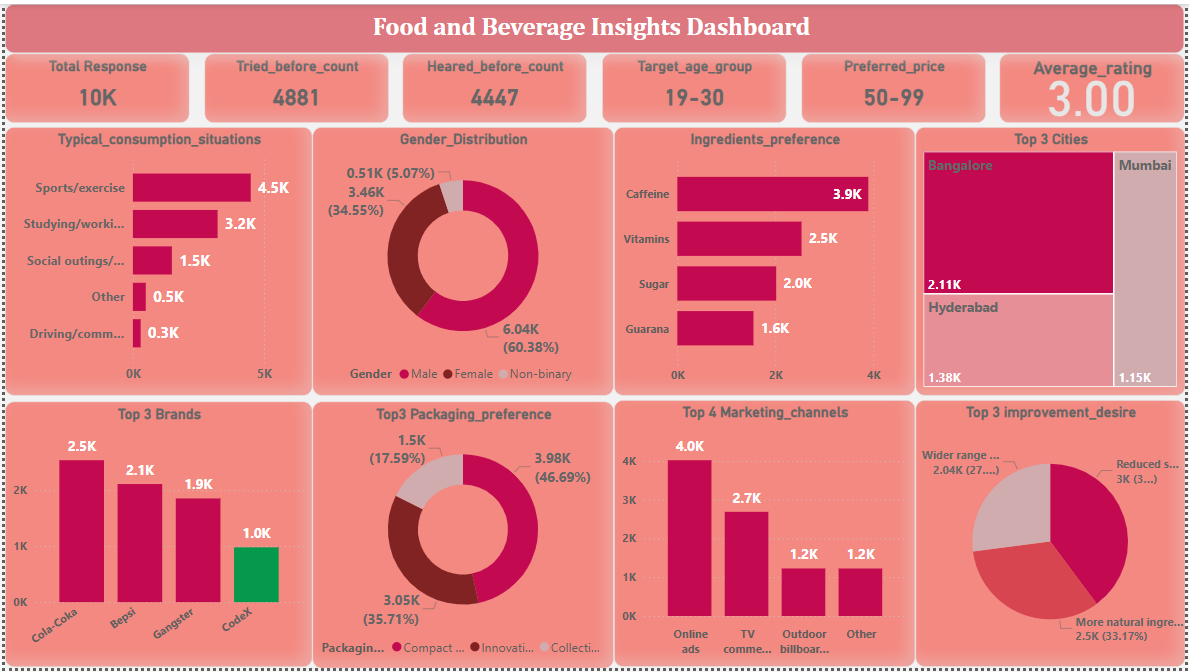

This screenshot's page, from the dashboard's own definition file:
{"tool":"powerbi","page":{"name":"Final Insights","canvas":[1280,720],"ordinal":3},"visuals":[{"type":"card","title":"Total Response","fields":{"Values":["CountNonNull(fact_survey_responses.Response_ID)"]},"box":[0,53,200,75],"z":0},{"type":"card","title":"Tried_before_count","fields":{"Values":["fact_survey_responses.Tried_count"]},"box":[215.8,53,200,75],"z":1000},{"type":"card","title":"Heared_before_count","fields":{"Values":["fact_survey_responses.Heard_count"]},"box":[431.5,53,200,75],"z":2000},{"type":"card","title":"Target_age_group ","fields":{"Values":["Min(dim_repondents.Age)"]},"box":[647.3,53,200,75],"z":3000},{"type":"card","title":"Preferred_price ","fields":{"Values":["Min(fact_survey_responses.Price_range)"]},"box":[863,53,200,75],"z":4000},{"type":"kpi","title":"Average_rating ","fields":{"Indicator":["Avg(fact_survey_responses.Taste_experience)"],"TrendLine":["dim_repondents.Respondent_ID"]},"box":[1078.8,53,200.7,75],"z":5000},{"type":"clusteredBarChart","title":"Typical_consumption_situations","fields":{"Category":["fact_survey_responses.Typical_consumption_situations"],"Y":["CountNonNull(dim_repondents.Respondent_ID)"]},"box":[0,133.4,333.4,291.2],"z":6000},{"type":"donutChart","title":"Gender_Distribution","fields":{"Category":["dim_repondents.Gender"],"Y":["CountNonNull(dim_repondents.Respondent_ID)"]},"box":[333.4,133.4,326.9,291.2],"z":7000},{"type":"barChart","title":"Ingredients_preference","fields":{"Category":["fact_survey_responses.Ingredients_expected"],"Y":["CountNonNull(dim_repondents.Respondent_ID)"]},"box":[660.4,133.4,326.9,291.2],"z":8000},{"type":"columnChart","title":"Top 3 Brands","fields":{"Category":["fact_survey_responses.Current_brands"],"Y":["CountNonNull(dim_repondents.Respondent_ID)"]},"box":[0,431,333.4,287.9],"z":9000},{"type":"donutChart","title":"Top3 Packaging_preference","fields":{"Y":["CountNonNull(dim_repondents.Respondent_ID)"],"Category":["fact_survey_responses.Packaging_preference"]},"box":[333.4,431,326.9,289.5],"z":10000},{"type":"columnChart","title":"Top 4 Marketing_channels","fields":{"Y":["CountNonNull(dim_repondents.Respondent_ID)"],"Category":["fact_survey_responses.Marketing_channels"]},"box":[660.4,429.4,326.9,289.5],"z":11000},{"type":"treemap","title":"Top 3 Cities","fields":{"Group":["dim_cities.City"],"Values":["CountNonNull(dim_repondents.Respondent_ID)"]},"box":[987.3,133.4,292.8,291.2],"z":12000},{"type":"pieChart","title":"Top 3 improvement_desire","fields":{"Category":["fact_survey_responses.Improvements_desired"],"Y":["CountNonNull(dim_repondents.Respondent_ID)"]},"box":[987.3,429.4,292.8,289.5],"z":13000},{"type":"textbox","box":[0,0,1278.5,53],"z":14000}]}

Visuals, with their boxes in screenshot pixels (x1, y1, x2, y2), scaled from the page's 1280x720 canvas onto the 1189x672 screenshot:
"Total Response" card: [0, 49, 186, 119]
"Tried_before_count" card: [200, 49, 386, 119]
"Heared_before_count" card: [401, 49, 587, 119]
"Target_age_group " card: [601, 49, 787, 119]
"Preferred_price " card: [802, 49, 987, 119]
"Average_rating " kpi: [1002, 49, 1188, 119]
"Typical_consumption_situations" clusteredBarChart: [0, 125, 310, 396]
"Gender_Distribution" donutChart: [310, 125, 613, 396]
"Ingredients_preference" barChart: [613, 125, 917, 396]
"Top 3 Brands" columnChart: [0, 402, 310, 671]
"Top3 Packaging_preference" donutChart: [310, 402, 613, 671]
"Top 4 Marketing_channels" columnChart: [613, 401, 917, 671]
"Top 3 Cities" treemap: [917, 125, 1188, 396]
"Top 3 improvement_desire" pieChart: [917, 401, 1188, 671]
textbox: [0, 0, 1188, 49]
